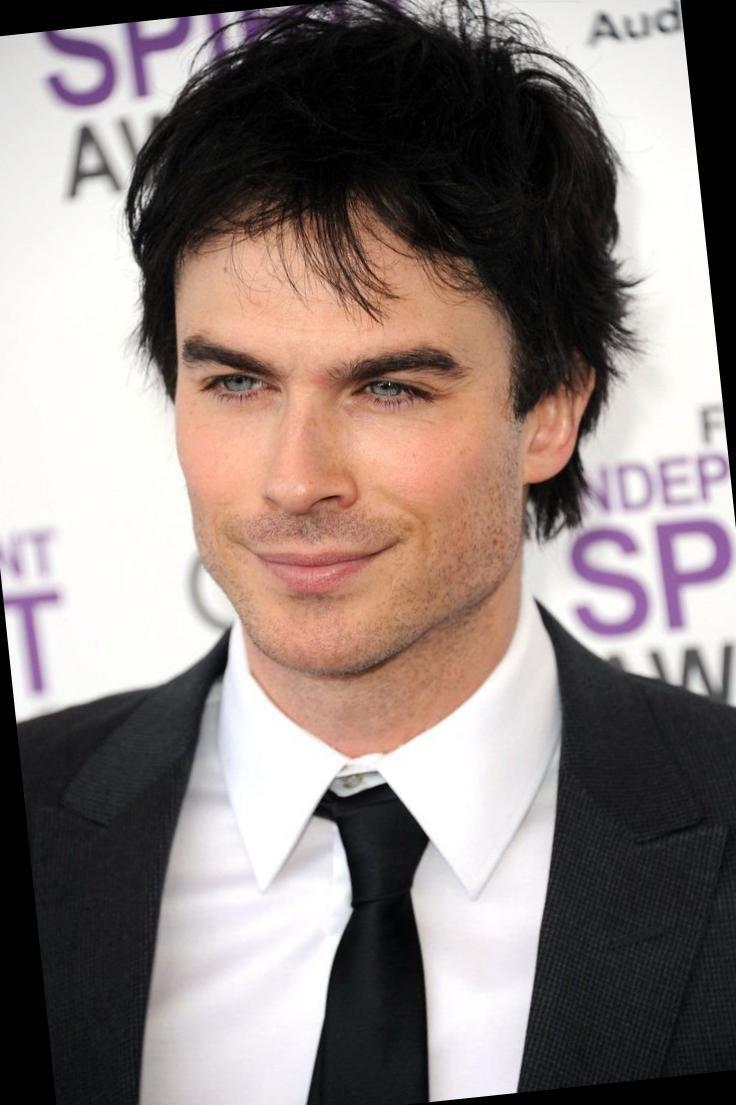Sober: (191, 236, 518, 647)
